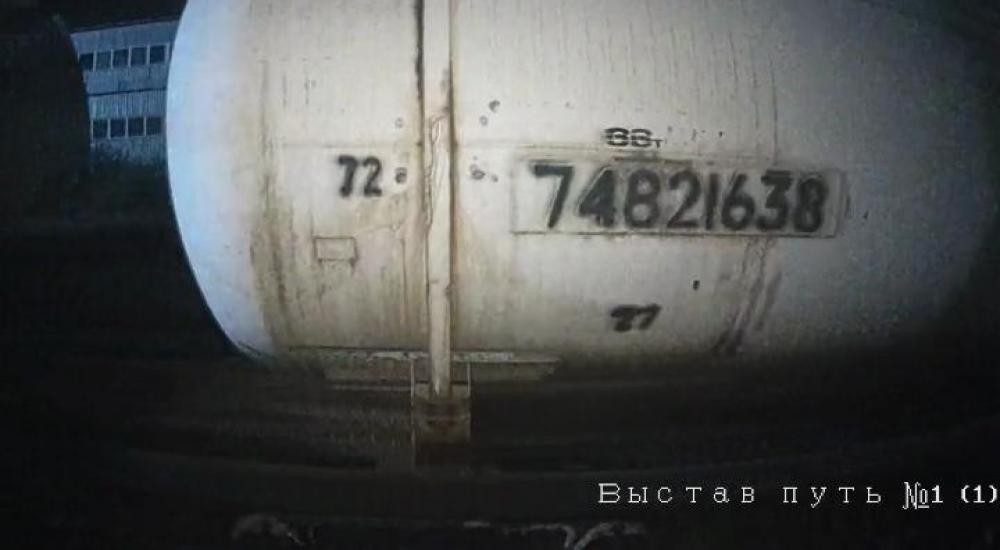Wagon-number: (526, 160, 833, 237)
